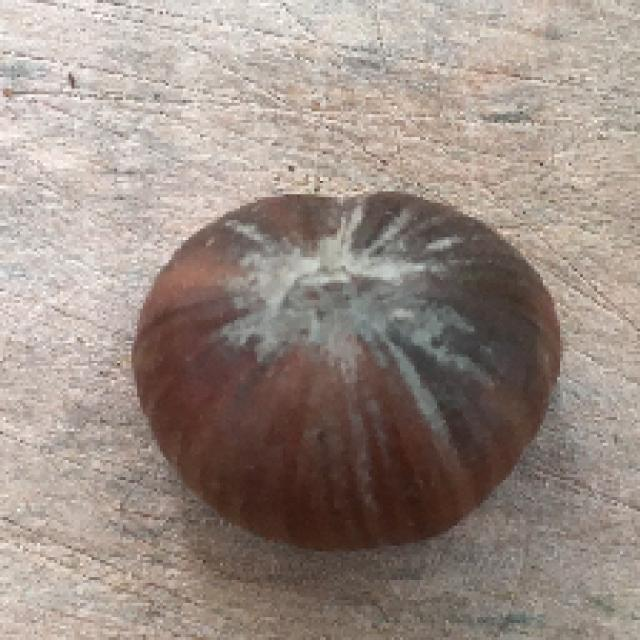damagedHazelnut: (120, 177, 586, 540)
